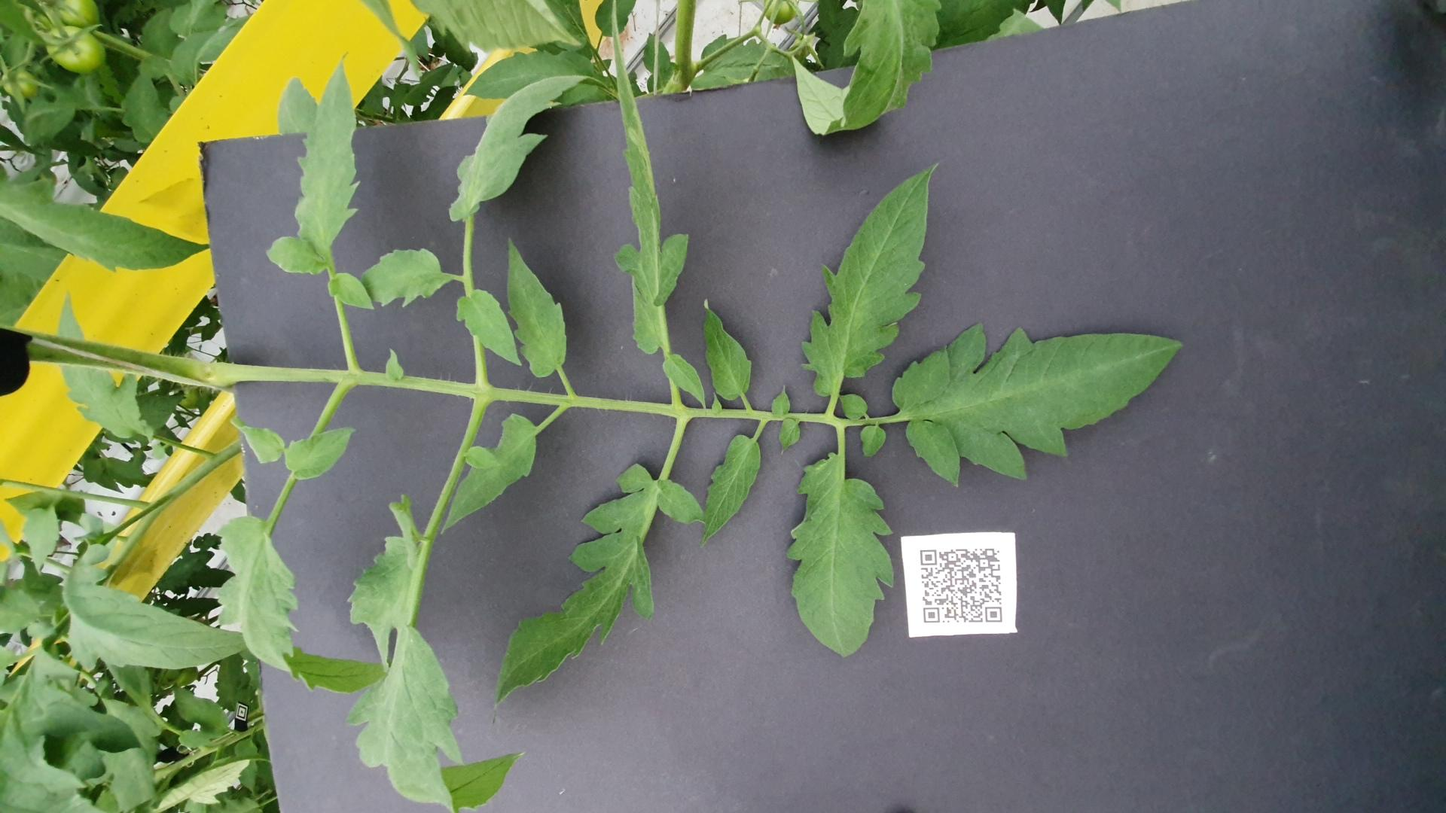Healthy: (0, 194, 569, 296), (189, 279, 623, 399), (584, 501, 873, 665), (738, 450, 1157, 530), (210, 122, 530, 216), (811, 344, 1446, 388), (278, 440, 641, 503), (253, 36, 481, 135), (1052, 252, 1313, 333), (1205, 445, 1446, 530), (955, 149, 1334, 202), (963, 0, 1130, 118), (671, 32, 928, 88), (493, 246, 711, 303), (775, 285, 1022, 318), (465, 391, 675, 428), (1273, 258, 1358, 337), (902, 202, 1006, 252), (735, 394, 913, 423), (794, 257, 933, 293), (592, 160, 690, 199), (619, 130, 706, 160), (426, 13, 544, 34), (720, 372, 817, 397), (896, 184, 964, 211)
